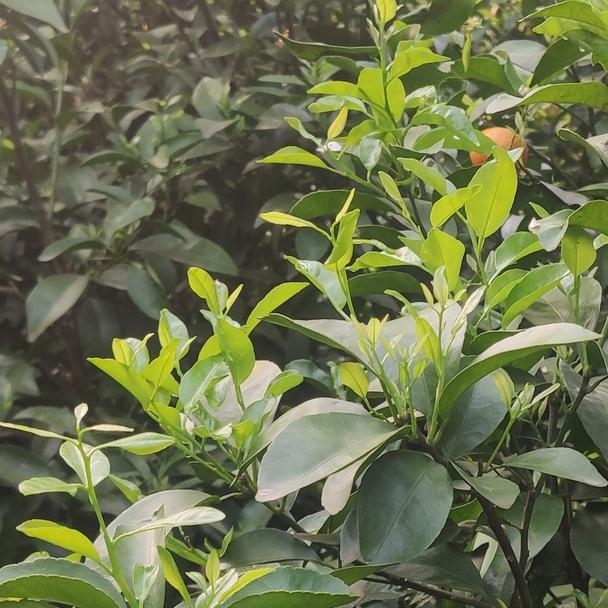shoot: (6, 387, 229, 579), (402, 267, 484, 373)
